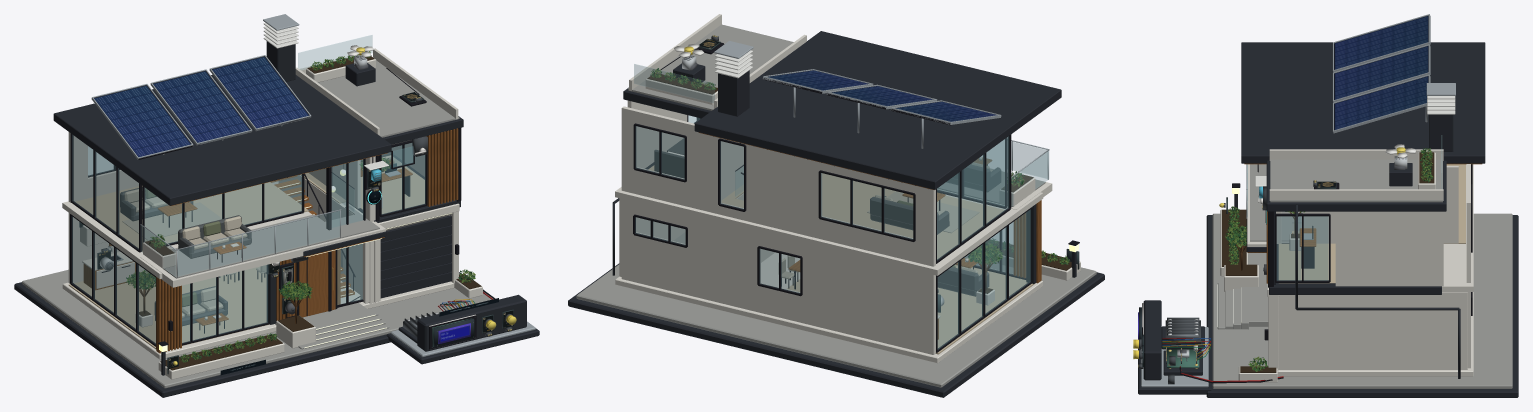
Rendered from casa_smart_premium_v02.glb.
3 views of the same model, side by side, from view 1: azimuth 30°, elevation 25°; view 2: azimuth 150°, elevation 25°; view 3: azimuth 270°, elevation 25° (orthographic). The views are drawn at different scales.
Parts seen in each view (by area): view 1: Cobertura_principal, Passeio_claro, Piso_sala, Terraco_cobertura_piso, Base_exposicao, Solar_celulas_01, Solar_celulas_02, Solar_celulas_00, Piso_superior_interno_001, Piso_varanda_001, Laje_terreo, Console_corpo (+67 smaller); view 2: Cobertura_principal, Passeio_claro, Base_exposicao, Laje_terreo, Fundos_T0_alvenaria, Piso_superior_interno_001, Fundos_T1_alvenaria_015, Terraco_cobertura_piso, Fundos_T0_alvenaria_001, Piso_sala, Fundos_T0_alvenaria_002, Fundos_T0_alvenaria_008 (+62 smaller); view 3: Cobertura_principal, Parede_lateral_garagem, Passeio_claro, Parede_suite_leste, Base_exposicao, Terraco_cobertura_piso, Solar_celulas_00, Solar_celulas_01, Solar_celulas_02, Cobertura_suite, Terraco_parapeito_001, Parede_corredor_suite (+32 smaller).
Boxes of the visible parts, x1=… form: Cobertura_principal: x1=53, y1=74, x2=391, y2=205; Passeio_claro: x1=22, y1=269, x2=493, y2=388; Piso_sala: x1=68, y1=266, x2=269, y2=349; Terraco_cobertura_piso: x1=318, y1=60, x2=459, y2=137; Base_exposicao: x1=14, y1=272, x2=494, y2=397; Solar_celulas_01: x1=153, y1=71, x2=249, y2=142; Solar_celulas_02: x1=212, y1=57, x2=308, y2=128; Solar_celulas_00: x1=94, y1=85, x2=190, y2=156; Piso_superior_interno_001: x1=91, y1=182, x2=308, y2=251; Piso_varanda_001: x1=163, y1=222, x2=344, y2=278; Laje_terreo: x1=62, y1=281, x2=454, y2=359; Console_corpo: x1=417, y1=294, x2=526, y2=351; Cobertura_principal: x1=694, y1=31, x2=1061, y2=189; Passeio_claro: x1=576, y1=256, x2=1096, y2=387; Base_exposicao: x1=568, y1=263, x2=1104, y2=397; Laje_terreo: x1=615, y1=252, x2=1042, y2=363; Fundos_T0_alvenaria: x1=802, y1=295, x2=935, y2=354; Piso_superior_interno_001: x1=822, y1=173, x2=1004, y2=250; Fundos_T1_alvenaria_015: x1=746, y1=153, x2=822, y2=213; Terraco_cobertura_piso: x1=628, y1=24, x2=793, y2=110; Fundos_T0_alvenaria_001: x1=802, y1=275, x2=935, y2=326; Piso_sala: x1=787, y1=265, x2=1035, y2=354; Fundos_T0_alvenaria_002: x1=802, y1=257, x2=935, y2=306; Fundos_T0_alvenaria_008: x1=687, y1=267, x2=758, y2=312; Cobertura_principal: x1=1241, y1=42, x2=1485, y2=163; Parede_lateral_garagem: x1=1278, y1=292, x2=1467, y2=369; Passeio_claro: x1=1212, y1=213, x2=1512, y2=388; Parede_suite_leste: x1=1335, y1=211, x2=1443, y2=286; Base_exposicao: x1=1206, y1=215, x2=1518, y2=397; Terraco_cobertura_piso: x1=1270, y1=159, x2=1442, y2=202; Solar_celulas_00: x1=1334, y1=16, x2=1428, y2=69; Solar_celulas_01: x1=1334, y1=46, x2=1428, y2=99; Solar_celulas_02: x1=1334, y1=76, x2=1428, y2=129; Cobertura_suite: x1=1266, y1=160, x2=1446, y2=211; Terraco_parapeito_001: x1=1269, y1=189, x2=1443, y2=200; Parede_corredor_suite: x1=1302, y1=166, x2=1458, y2=243.
Size of the model in its own units: 0.7 by 0.4605 by 0.6422.
Materials: 45 (18 with a texture image).
